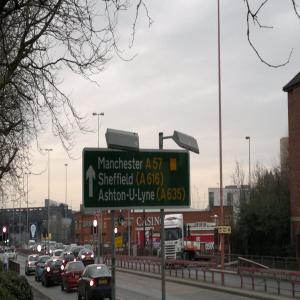Vehicle-registration-plate: (99, 281, 108, 287)
